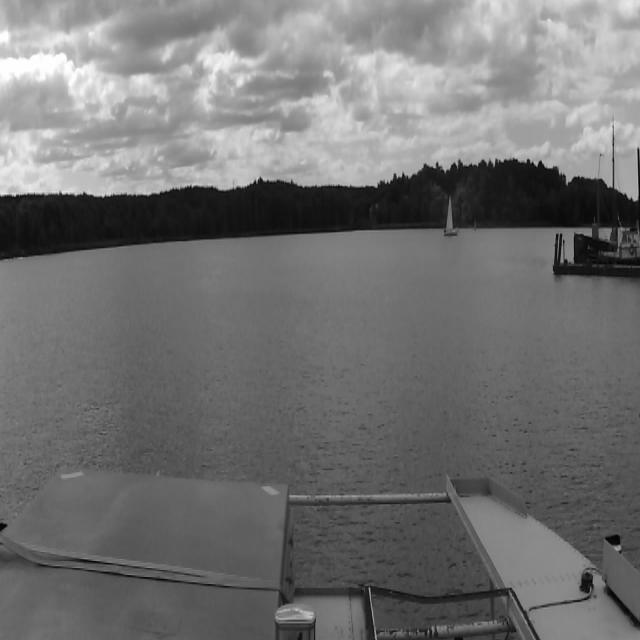ship: (570, 205, 640, 266), (444, 197, 458, 234)
